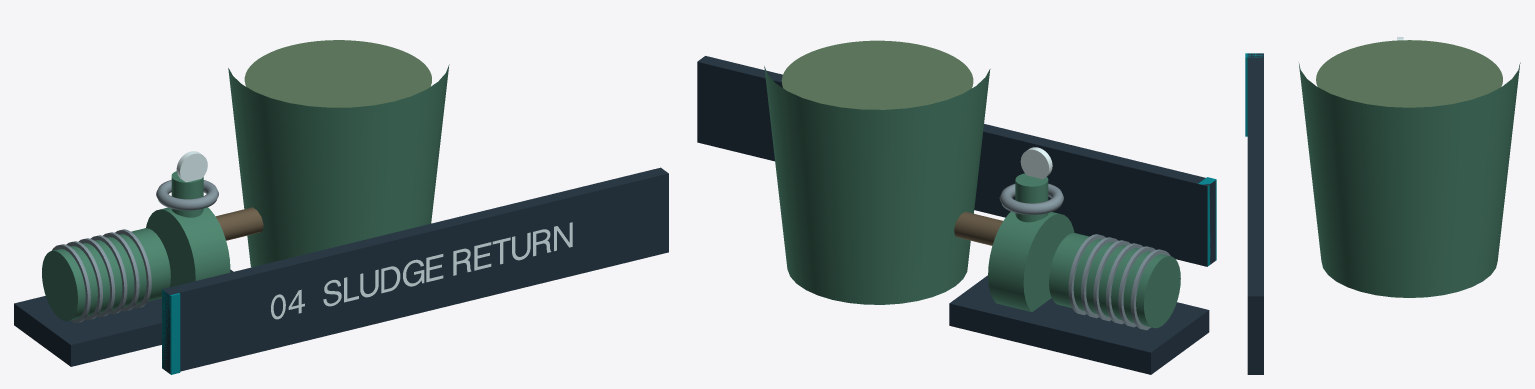
Rendered from water-sludge.4198e8fe8e9b.glb.
3 renders of one model, left to right at view 1: azimuth 30°, elevation 25°; view 2: azimuth 150°, elevation 25°; view 3: azimuth 270°, elevation 25°, orthographic. The views are drawn at different scales.
Parts seen in each view (by area): view 1: structure_dark_00020, structure_green_00019, sludge_surface_00002, structure_steel_00021, structure_white_00022, structure_teal_00024, structure_earth_00023; view 2: structure_green_00019, structure_dark_00020, sludge_surface_00002, structure_steel_00021, structure_earth_00023, structure_white_00022, structure_teal_00024; view 3: structure_green_00019, sludge_surface_00002, structure_dark_00020, structure_teal_00024.
Part boxes in pixels (x1,y1,x2,y2): structure_dark_00020: [14, 167, 668, 373]; structure_green_00019: [42, 64, 449, 321]; sludge_surface_00002: [244, 40, 431, 107]; structure_steel_00021: [51, 180, 218, 323]; structure_white_00022: [176, 151, 572, 319]; structure_teal_00024: [162, 289, 180, 374]; structure_earth_00023: [215, 207, 263, 240]; structure_green_00019: [764, 66, 1180, 328]; structure_dark_00020: [697, 56, 1215, 374]; sludge_surface_00002: [781, 40, 973, 109]; structure_steel_00021: [999, 183, 1170, 330]; structure_earth_00023: [954, 211, 1002, 245]; structure_white_00022: [1020, 147, 1052, 179]; structure_teal_00024: [1198, 177, 1216, 266]; structure_green_00019: [1298, 62, 1520, 297]; sludge_surface_00002: [1316, 40, 1502, 107]; structure_dark_00020: [1247, 53, 1263, 374]; structure_teal_00024: [1245, 53, 1263, 136].
Size of the model in its own units: 4.7 by 1.76 by 2.06.
